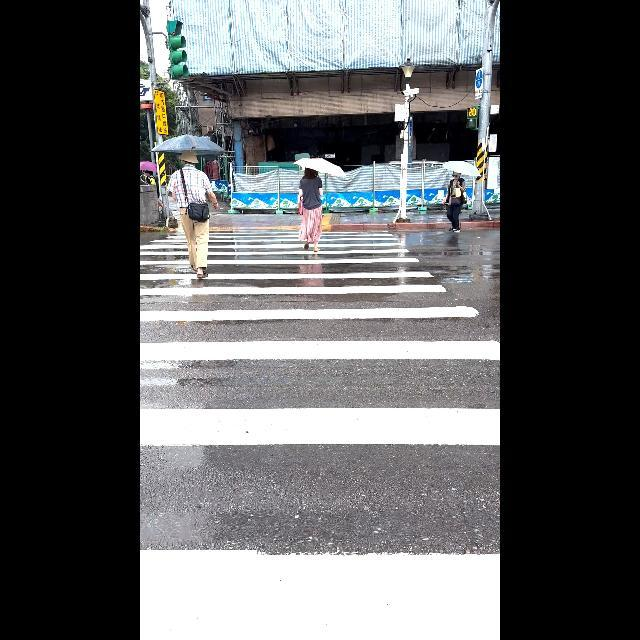sidewalk: (140, 208, 500, 640)
